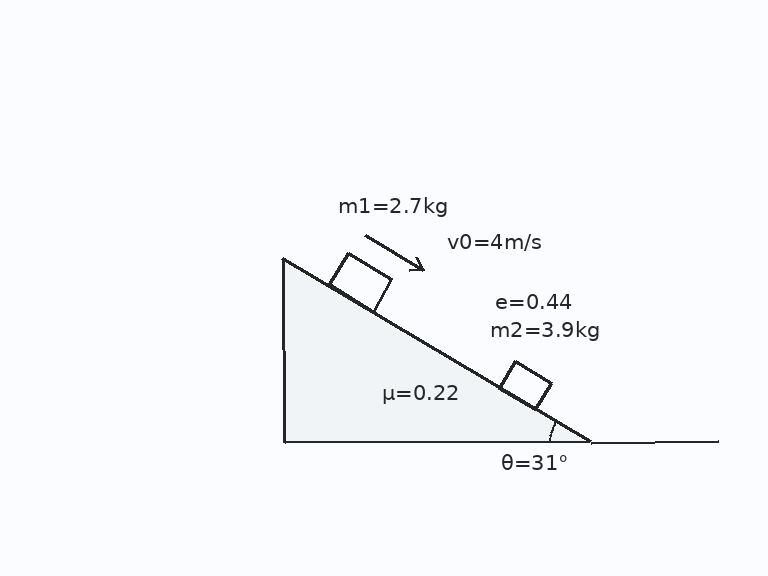block: (326, 251, 393, 313), (497, 359, 553, 411)
ramp: (282, 256, 592, 444)
